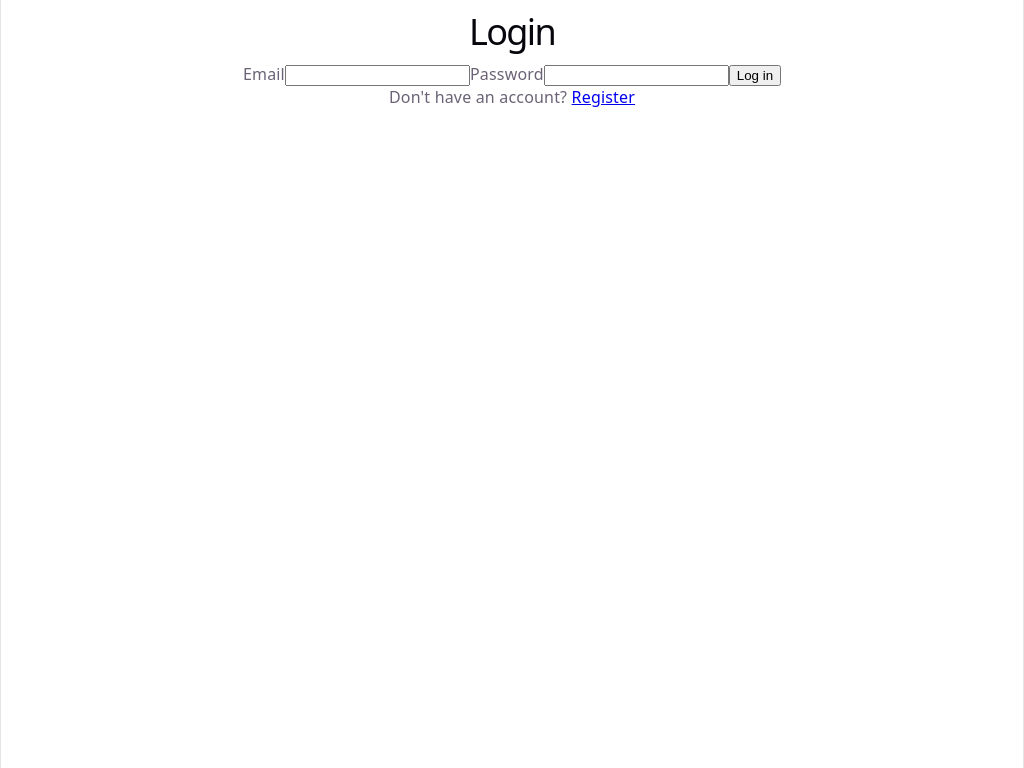
Test: shows an error message when login fails
In the field labelled "Email": point(377, 76) [285,65,470,86], type "user@example.com"
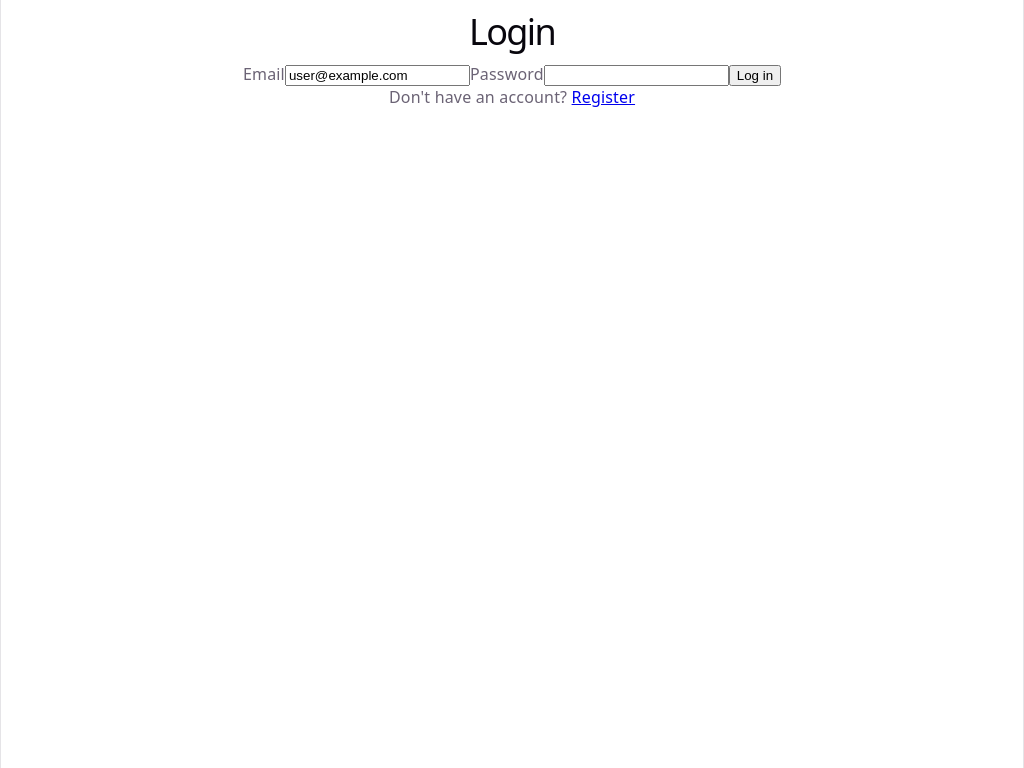
In the password field labelled "Password": point(636, 76) [544,65,729,86], type "password123"
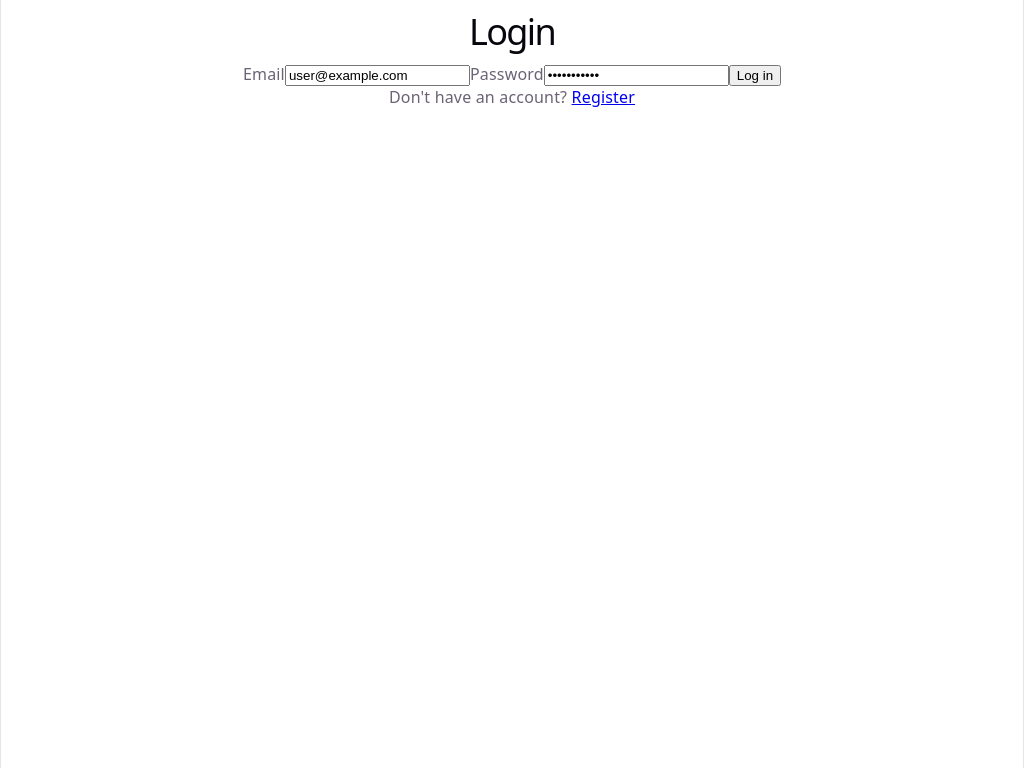
Click the button "Log in": point(755, 76) [729,65,781,86]
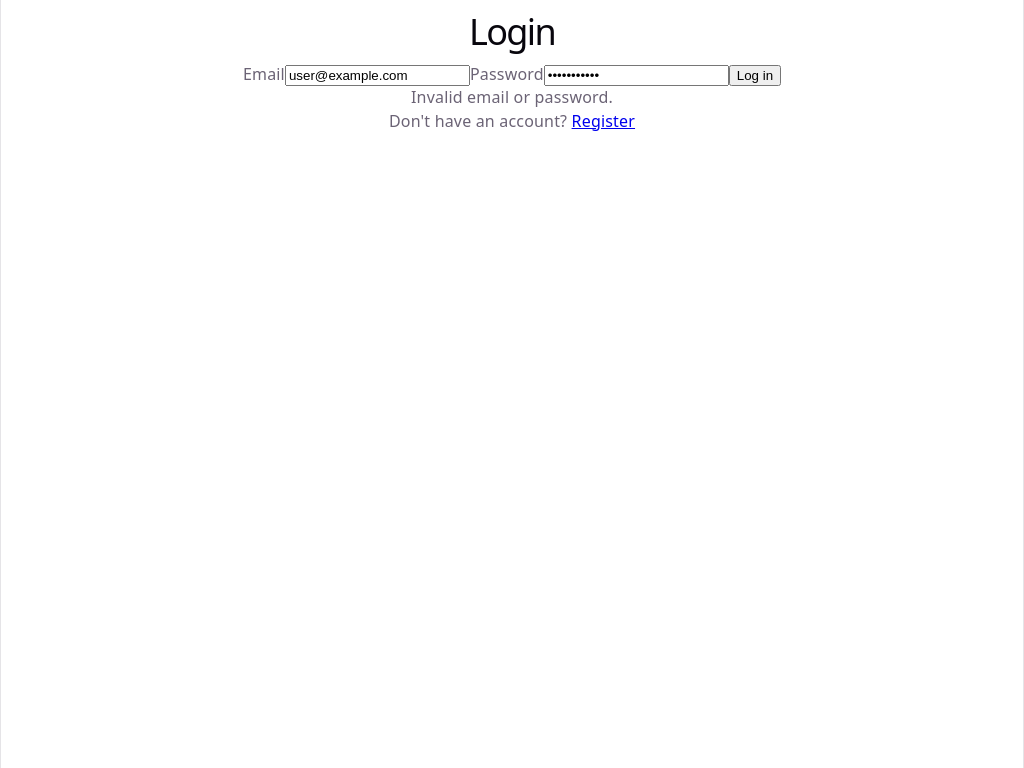
Check: the message reads "Invalid email or password.", box [411,86,613,108]
